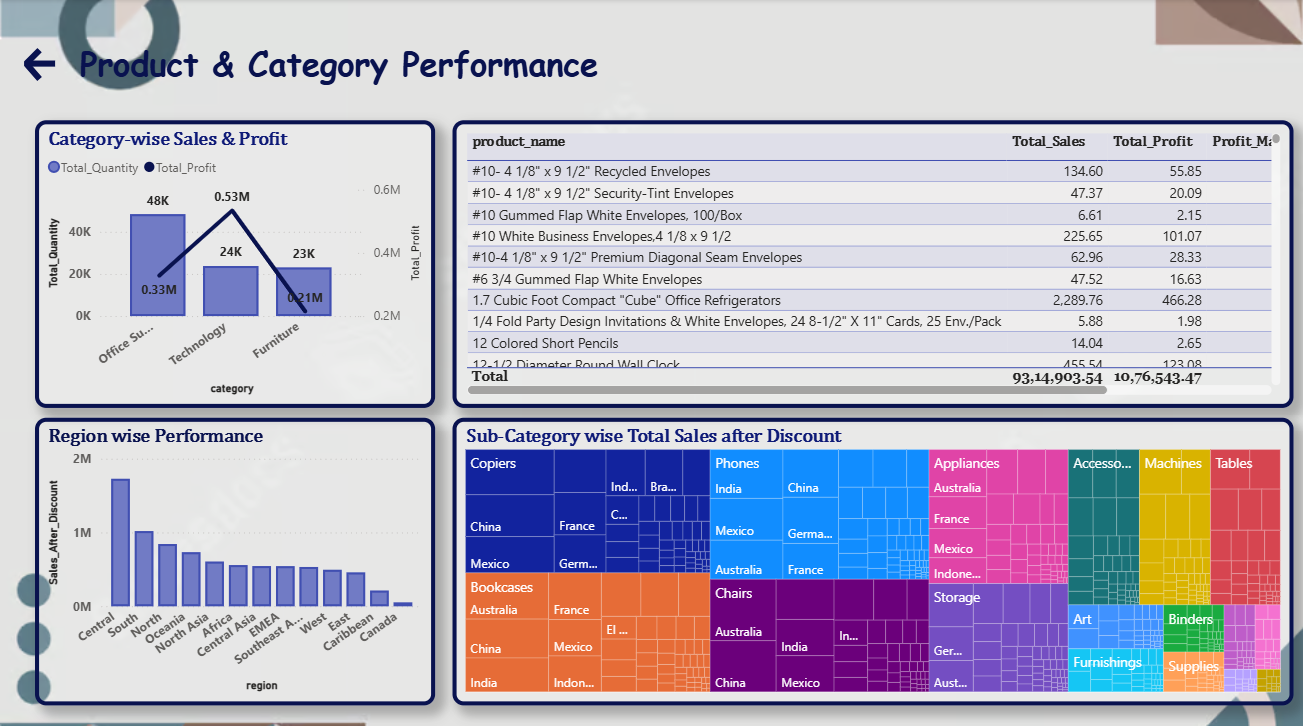

The page's visual inventory and layout, read from the dashboard file:
{"tool":"powerbi","page":{"name":"Product & Category Performance","canvas":[1280,720],"ordinal":1},"visuals":[{"type":"textbox","box":[73.6,35.6,1181.6,58.9],"z":0},{"type":"actionButton","box":[19.6,44.2,54,40.5],"z":1000},{"type":"lineClusteredColumnComboChart","title":"Category-wise Sales & Profit","fields":{"Y2":["Orders.Total_Profit"],"Y":["Orders.Total_Quantity"],"Category":["Orders.category"]},"box":[34.4,119,392.6,282.2],"z":2000},{"type":"columnChart","title":"Region wise Performance","fields":{"Y":["Orders.Sales_After_Discount"],"Category":["Orders.region"]},"box":[34,411,393,282],"z":3000},{"type":"tableEx","title":"Category-wise Sales & Profit","fields":{"Values":["Orders.product_name","Orders.Total_Sales","Orders.Total_Profit","Orders.Profit_Margin%","Orders.Low_Margin_Products"]},"box":[444.2,119,825.8,282.2],"z":4000},{"type":"treemap","title":"Sub-Category wise Total Sales after Discount","fields":{"Group":["Orders.sub_category"],"Details":["Orders.country"],"Values":["Orders.Sales_After_Discount"]},"box":[444.2,411,825.8,282.2],"z":5000}]}

Visuals, with their boxes in screenshot pixels (x1, y1, x2, y2), scaled from the page's 1280x720 canvas onto the 1303x726 screenshot:
textbox: l=75, t=36, r=1278, b=95
actionButton: l=20, t=45, r=75, b=85
"Category-wise Sales & Profit" lineClusteredColumnComboChart: l=35, t=120, r=435, b=405
"Region wise Performance" columnChart: l=35, t=414, r=435, b=699
"Category-wise Sales & Profit" tableEx: l=452, t=120, r=1293, b=405
"Sub-Category wise Total Sales after Discount" treemap: l=452, t=414, r=1293, b=699
